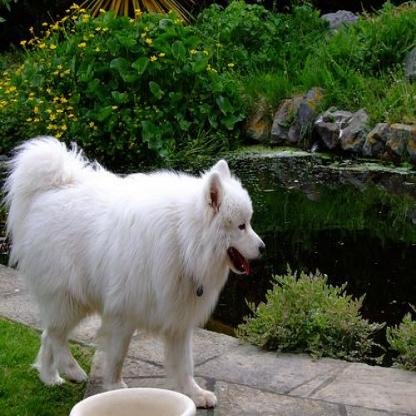Samoyed: (0, 132, 268, 413)
